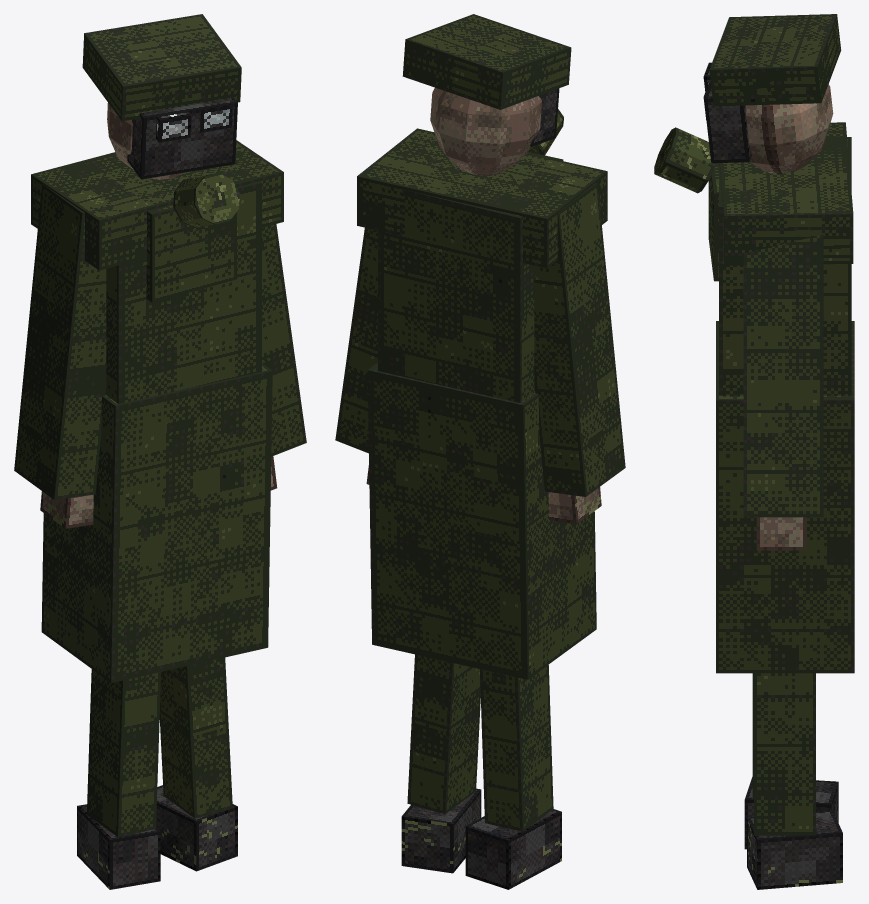
Rendered from SM_Figure_Stalker_01.glb.
3 views of the same model, side by side, from view 1: azimuth 30°, elevation 25°; view 2: azimuth 150°, elevation 25°; view 3: azimuth 270°, elevation 25° (orthographic).
Visible parts, largest first — view 1: SM_Figure_Stalker_01; view 2: SM_Figure_Stalker_01; view 3: SM_Figure_Stalker_01.
Part boxes in pixels (x1,y1,x2,y2): SM_Figure_Stalker_01: (14, 14, 306, 889); SM_Figure_Stalker_01: (335, 14, 625, 889); SM_Figure_Stalker_01: (654, 14, 854, 889).
Size of the model in its own units: 0.4506 by 1.4 by 0.3104.
Materials: 1 (1 with a texture image).
